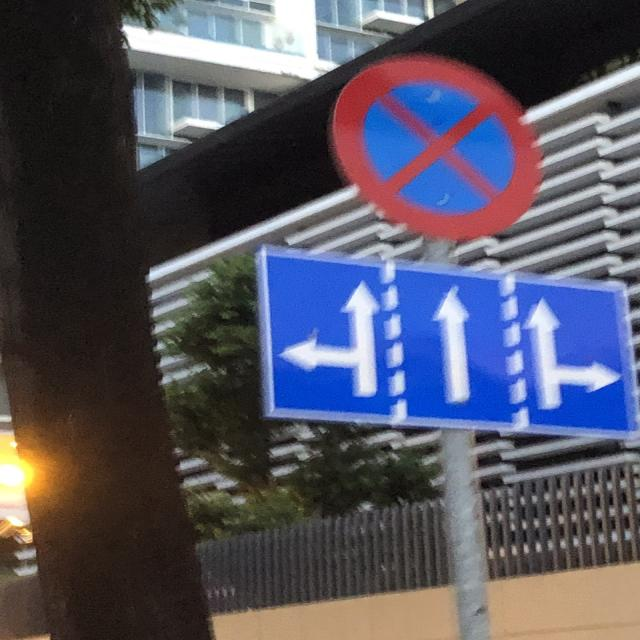Bien bao cam dung xe va do xe: (312, 49, 558, 247)
